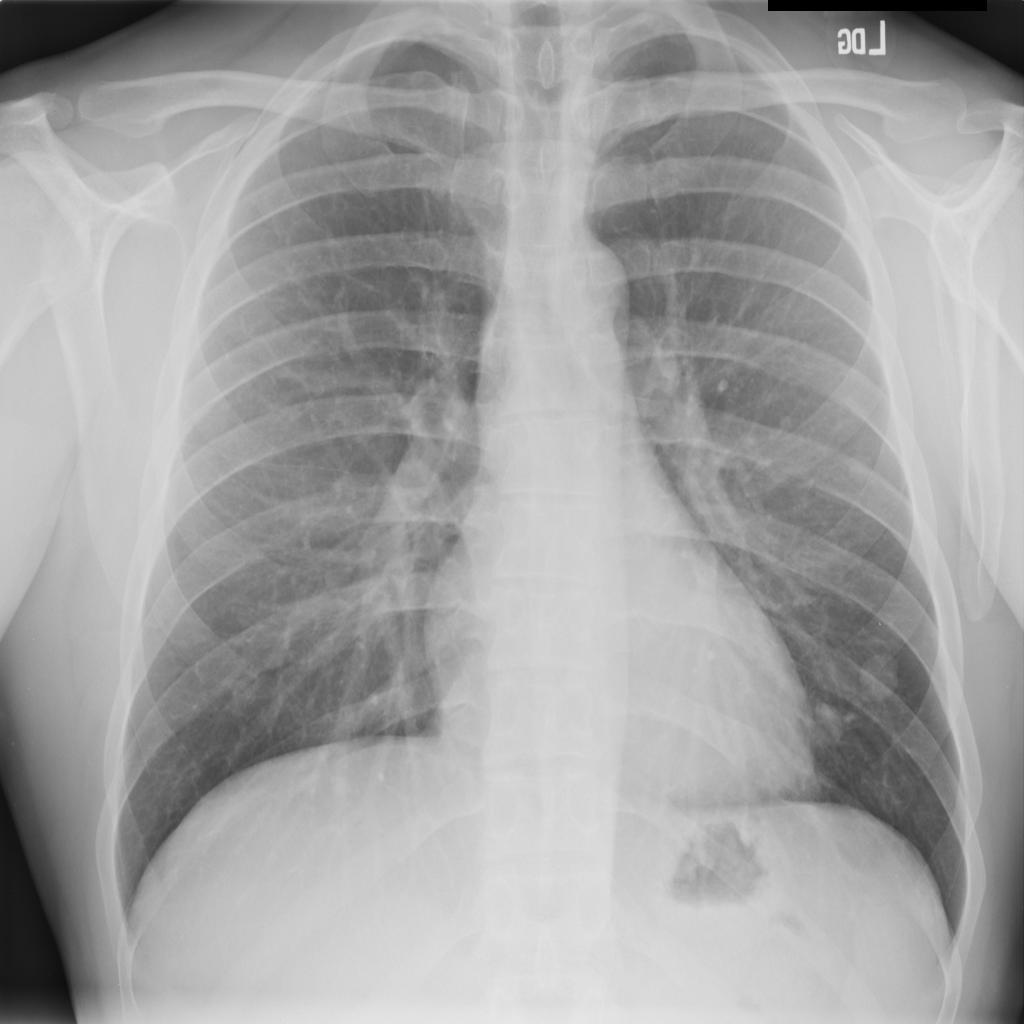nodule: (844, 635, 914, 712), (792, 688, 859, 756), (817, 394, 874, 449), (835, 441, 883, 494)
